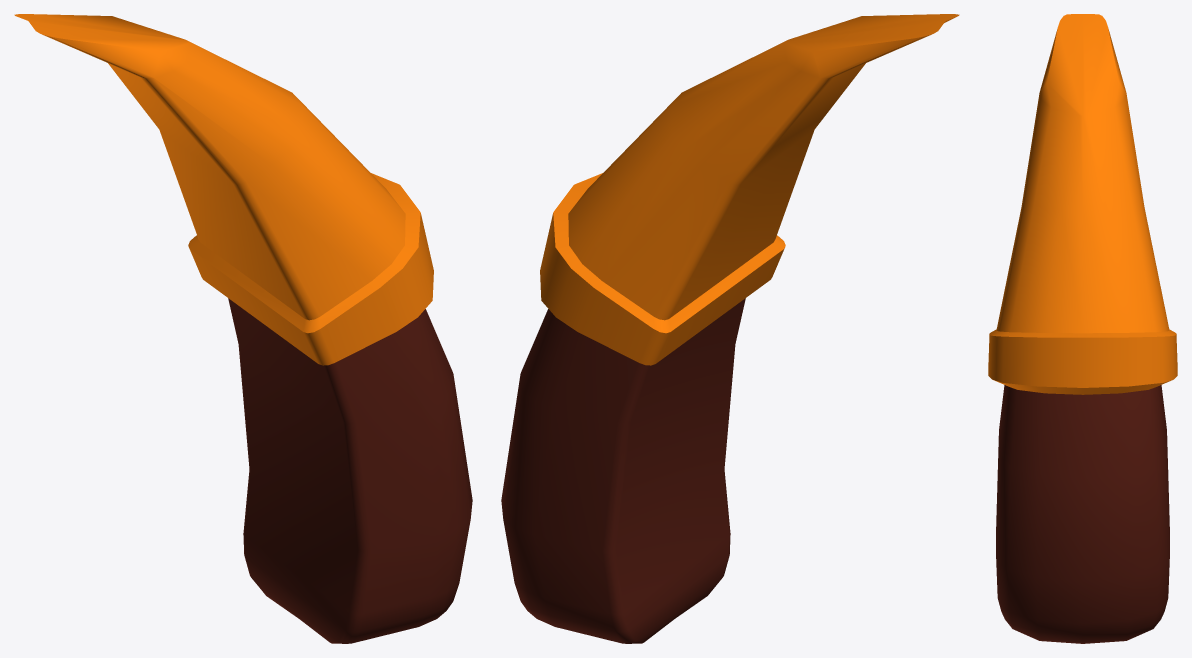
File: character_tavernkeeperArmLeft.obj
3 views of the same model, side by side, from view 1: azimuth 30°, elevation 25°; view 2: azimuth 150°, elevation 25°; view 3: azimuth 270°, elevation 25° (orthographic). The views are drawn at different scales.
Visible parts, largest first — view 1: character_tavernkeeperArmLeft_Cube.6077; view 2: character_tavernkeeperArmLeft_Cube.6077; view 3: character_tavernkeeperArmLeft_Cube.6077.
Boxes of the visible parts, x1,y1,x2,y2 form: character_tavernkeeperArmLeft_Cube.6077: (14, 14, 472, 643); character_tavernkeeperArmLeft_Cube.6077: (501, 14, 959, 643); character_tavernkeeperArmLeft_Cube.6077: (988, 14, 1177, 643).
Size of the model in its own units: 0.3802 by 0.5708 by 0.1971.
